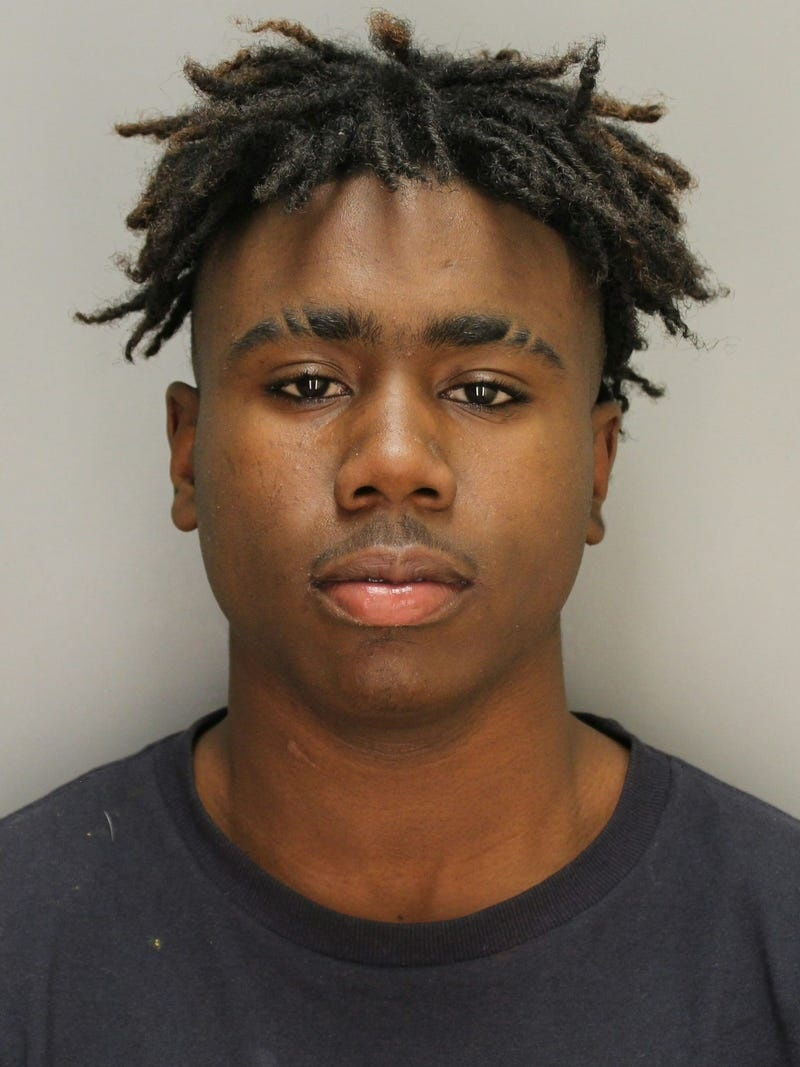without_mask: (162, 162, 634, 740)
